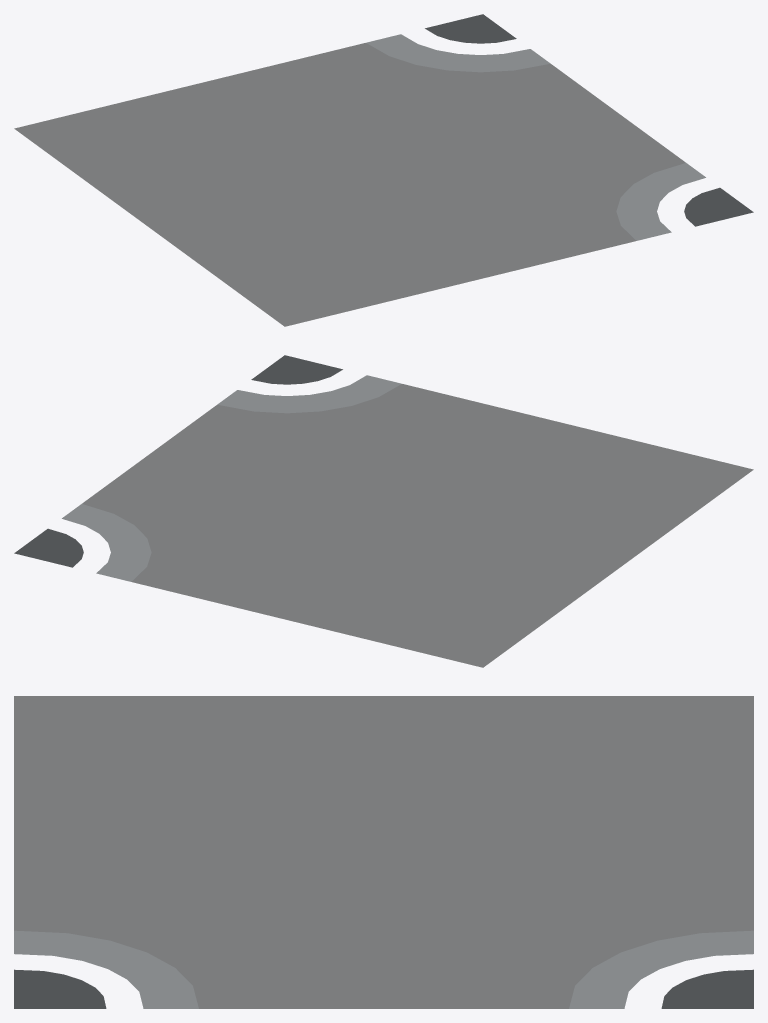
File: Ceiling_type_B_038.glb
The picture shows the model from 3 angles, top to bottom: view 1: azimuth 30°, elevation 25°; view 2: azimuth 150°, elevation 25°; view 3: azimuth 270°, elevation 25°; orthographic projection. The views are drawn at different scales.
Parts seen in each view (by area): view 1: Ceiling_type_B_038; view 2: Ceiling_type_B_038; view 3: Ceiling_type_B_038.
Boxes of the visible parts, left/top/right/bottom form: Ceiling_type_B_038: left=14, top=14, right=753, bottom=326; Ceiling_type_B_038: left=14, top=355, right=753, bottom=667; Ceiling_type_B_038: left=14, top=696, right=753, bottom=1008.
Bounding box in the file's own units: 4 × 0.012 × 4.
2 materials, 2 textured.
